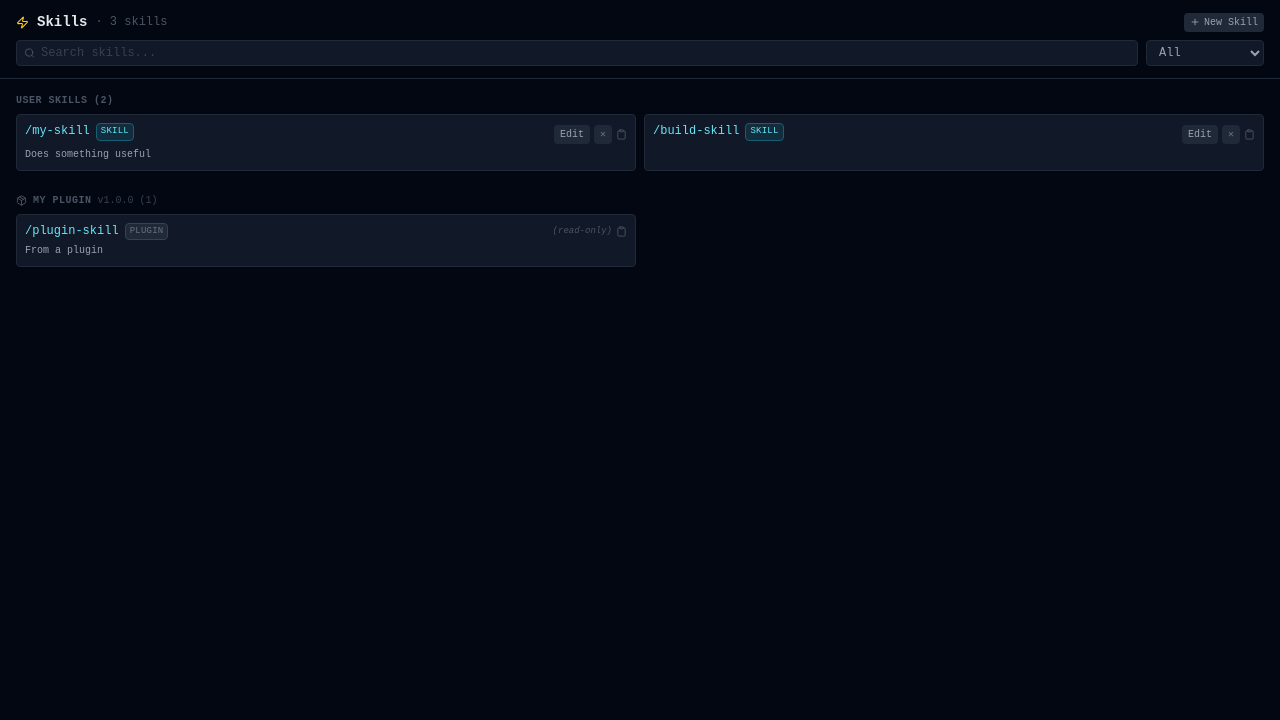
SkillsPanel — new skill form › shows error message from server on failed save
The image size is (1280, 720).
Step 1. Click the button titled "Create new skill" → (1224, 22), box [1184,12,1264,32]
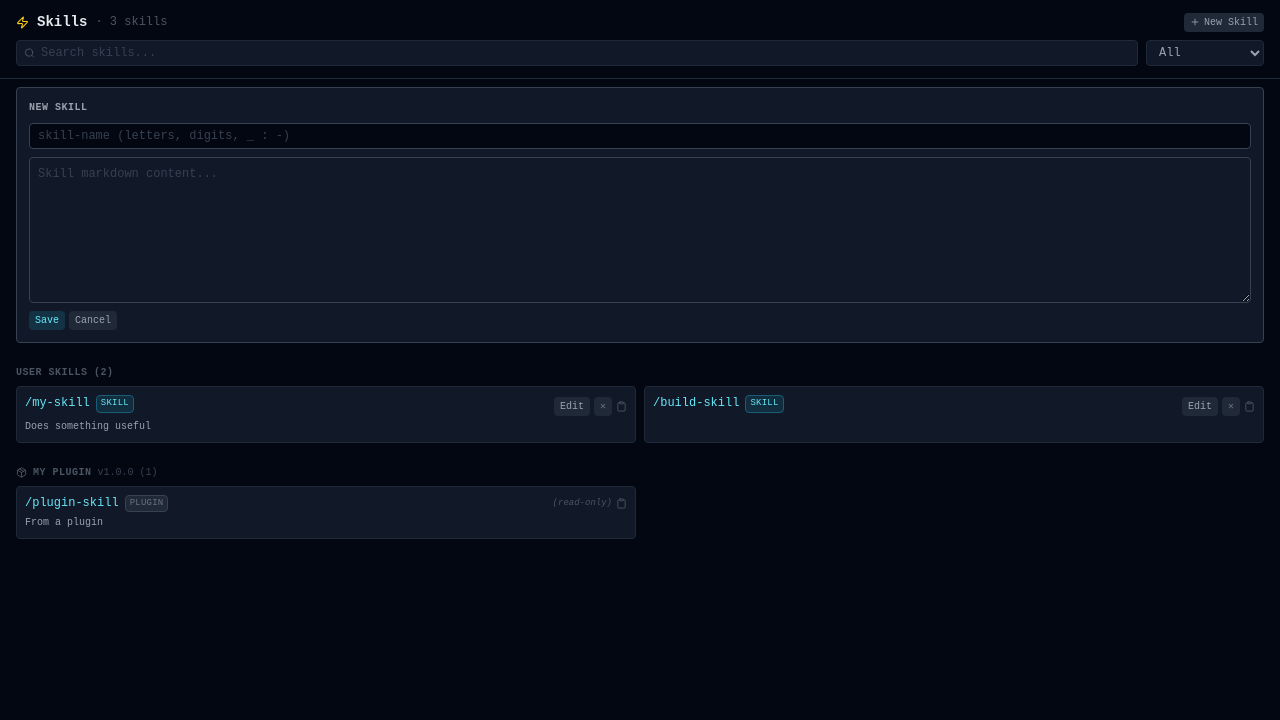
Step 2. Type "my-skill" into the field with placeholder "skill-name (letters, digits, _ : -)" → (640, 136), box [29,123,1251,149]
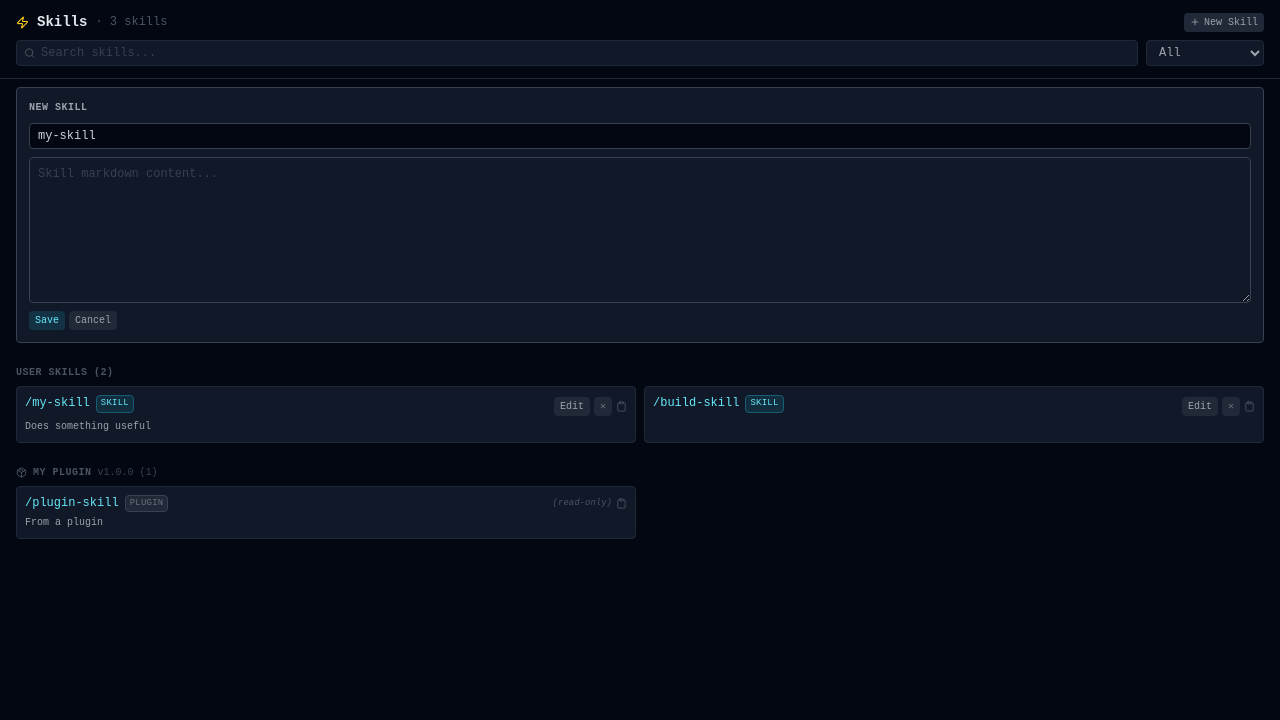
Step 3. Click the button "Save" → (47, 320), box [29,311,65,330]
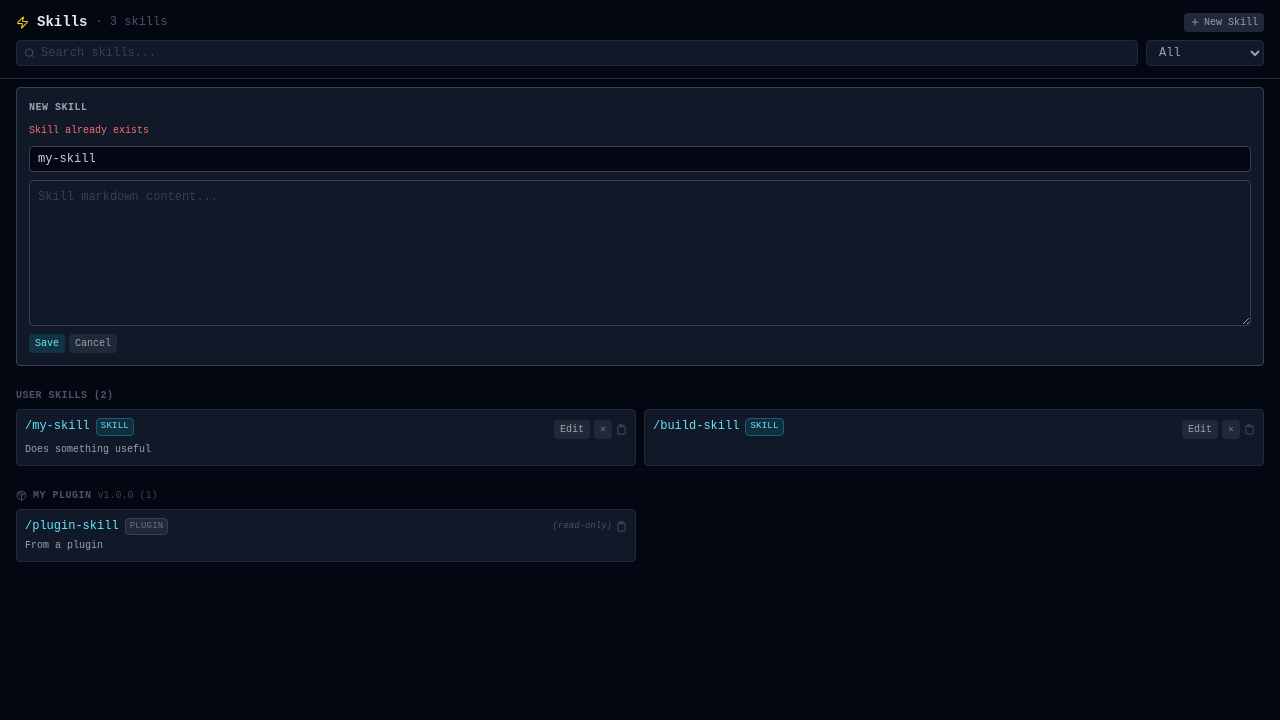
Now the text "Skill already exists" is shown, box [29,125,149,136]
